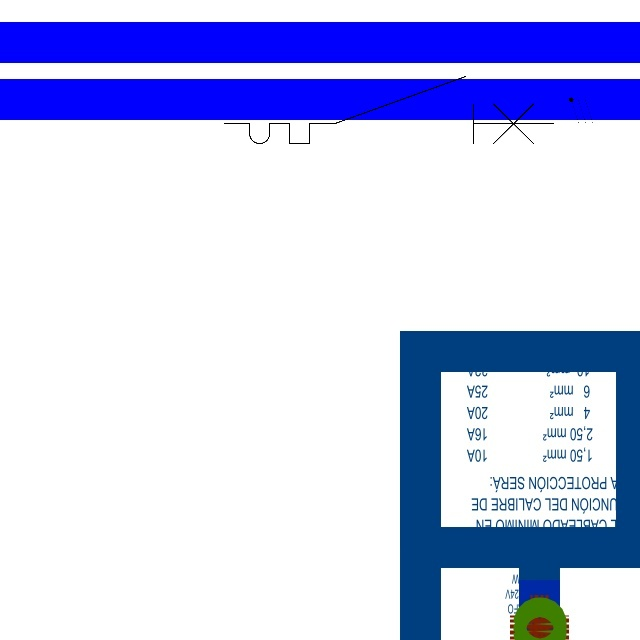interruptor_termomagnetico: (216, 68, 562, 152)
